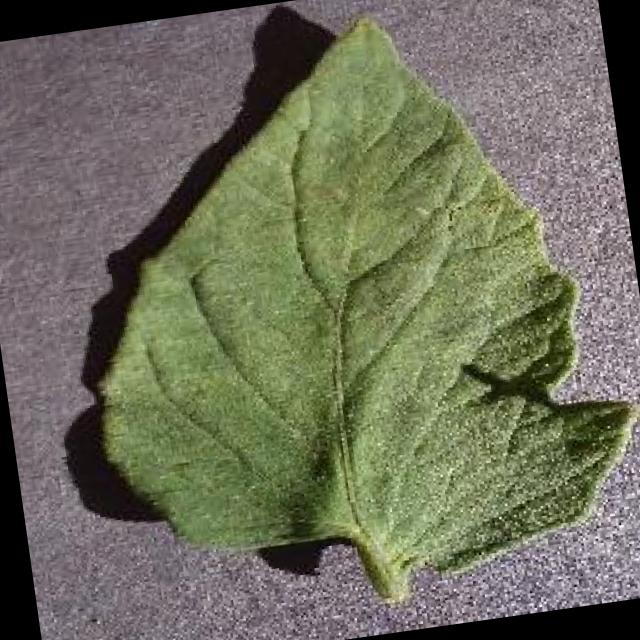Tomato_Healthy: (34, 0, 640, 622)
